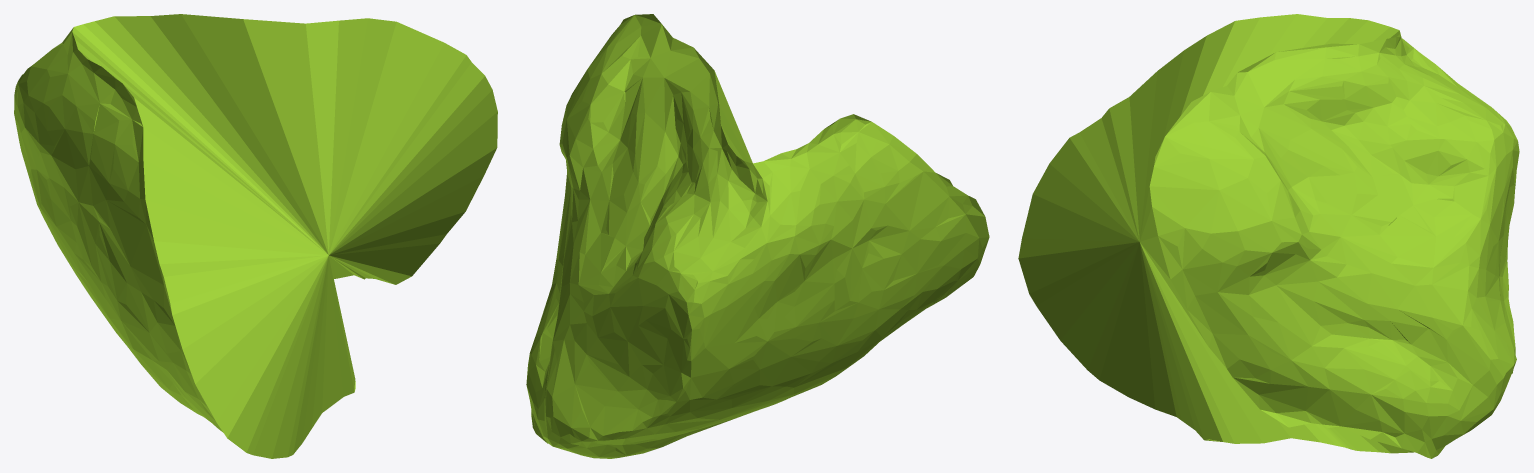
Rendered from Crown_13__Demo_Virtual_Patient.obj.
3 views of the same model, side by side, from view 1: azimuth 30°, elevation 25°; view 2: azimuth 150°, elevation 25°; view 3: azimuth 270°, elevation 25° (orthographic). The views are drawn at different scales.
Size of the model in its own units: 8.11 by 7.86 by 9.63.
